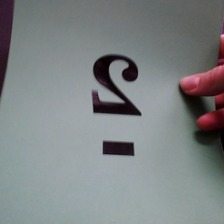green2: (85, 49, 154, 165)
